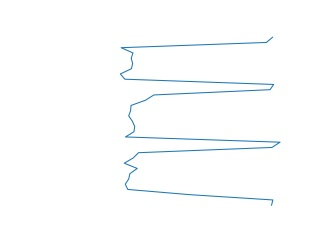majorRiverChannelBar: (118, 37, 282, 206)
